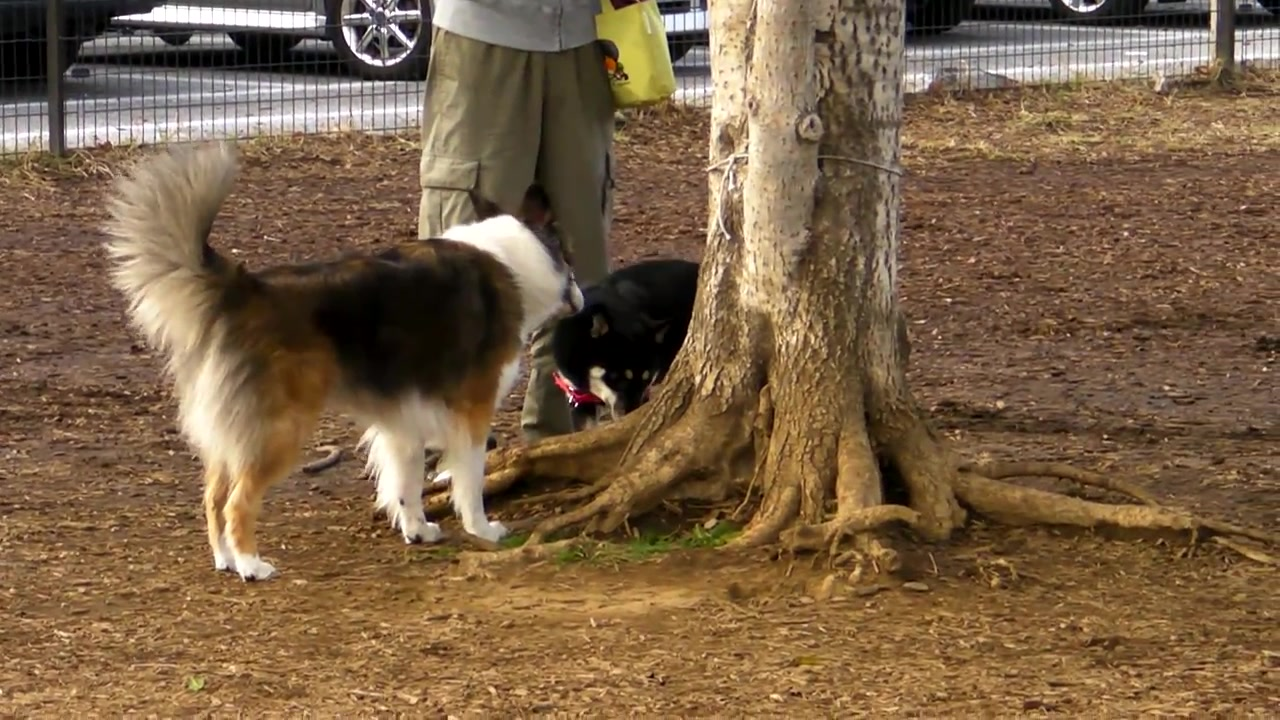dog: (110, 139, 590, 582)
